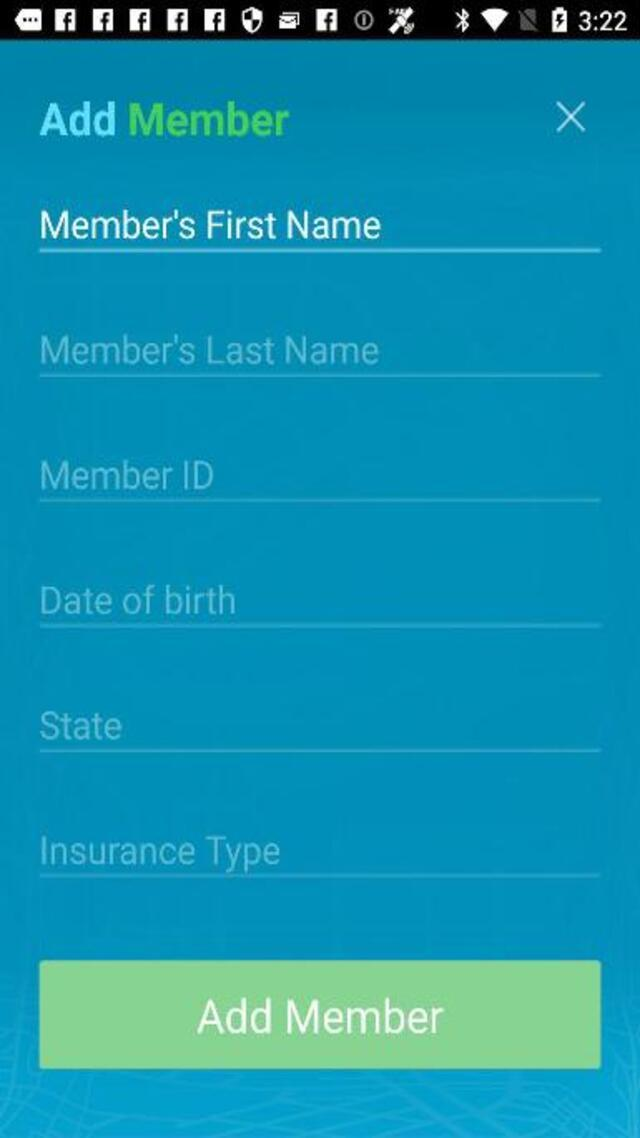Icon: (555, 100, 585, 132)
Text: (190, 994, 448, 1039), (42, 209, 380, 239), (41, 336, 378, 365), (38, 100, 288, 138), (40, 835, 278, 872), (42, 584, 235, 614), (41, 460, 212, 490), (41, 711, 122, 740)
TextButton: (40, 960, 602, 1068)
